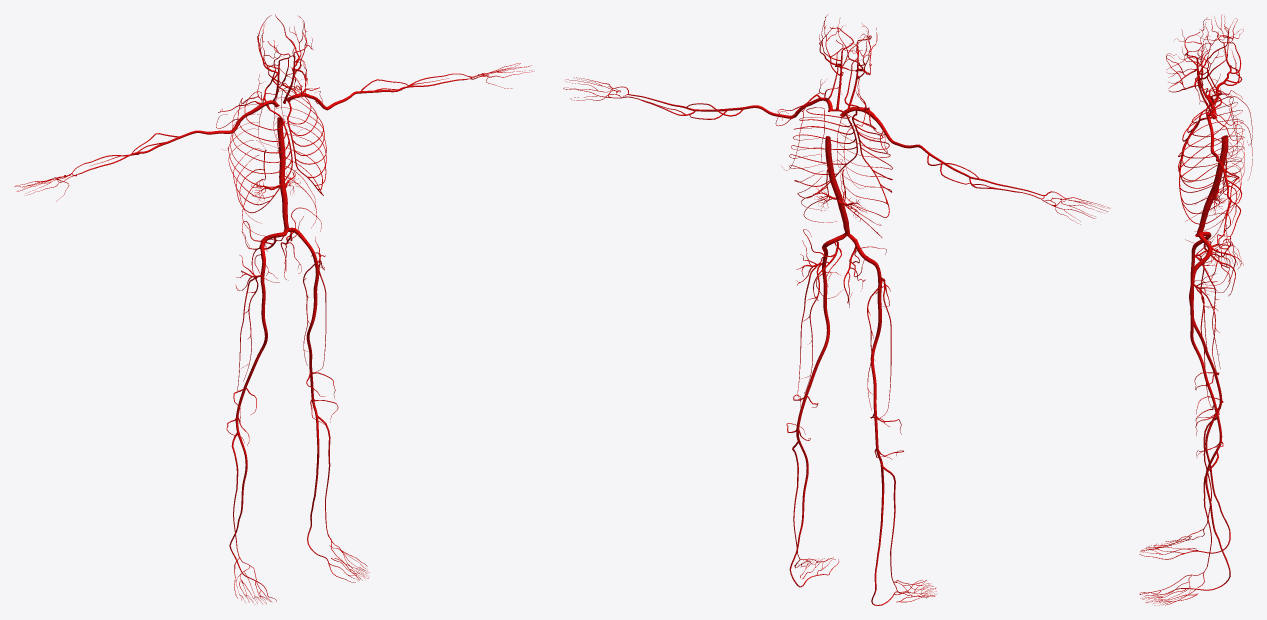
The model's file is Arteries.fbx.
The picture shows the model from 3 angles, left to right: view 1: azimuth 30°, elevation 25°; view 2: azimuth 150°, elevation 25°; view 3: azimuth 270°, elevation 25°; orthographic projection. The views are drawn at different scales.
Parts seen in each view (by area): view 1: Arteries; view 2: Arteries; view 3: Arteries.
Boxes of the visible parts, box(x1,y1,x2,y2) form: Arteries: box(14, 14, 534, 604); Arteries: box(563, 14, 1110, 605); Arteries: box(1139, 14, 1252, 605).
Bounding box in the file's own units: 173 × 177 × 33.02.
